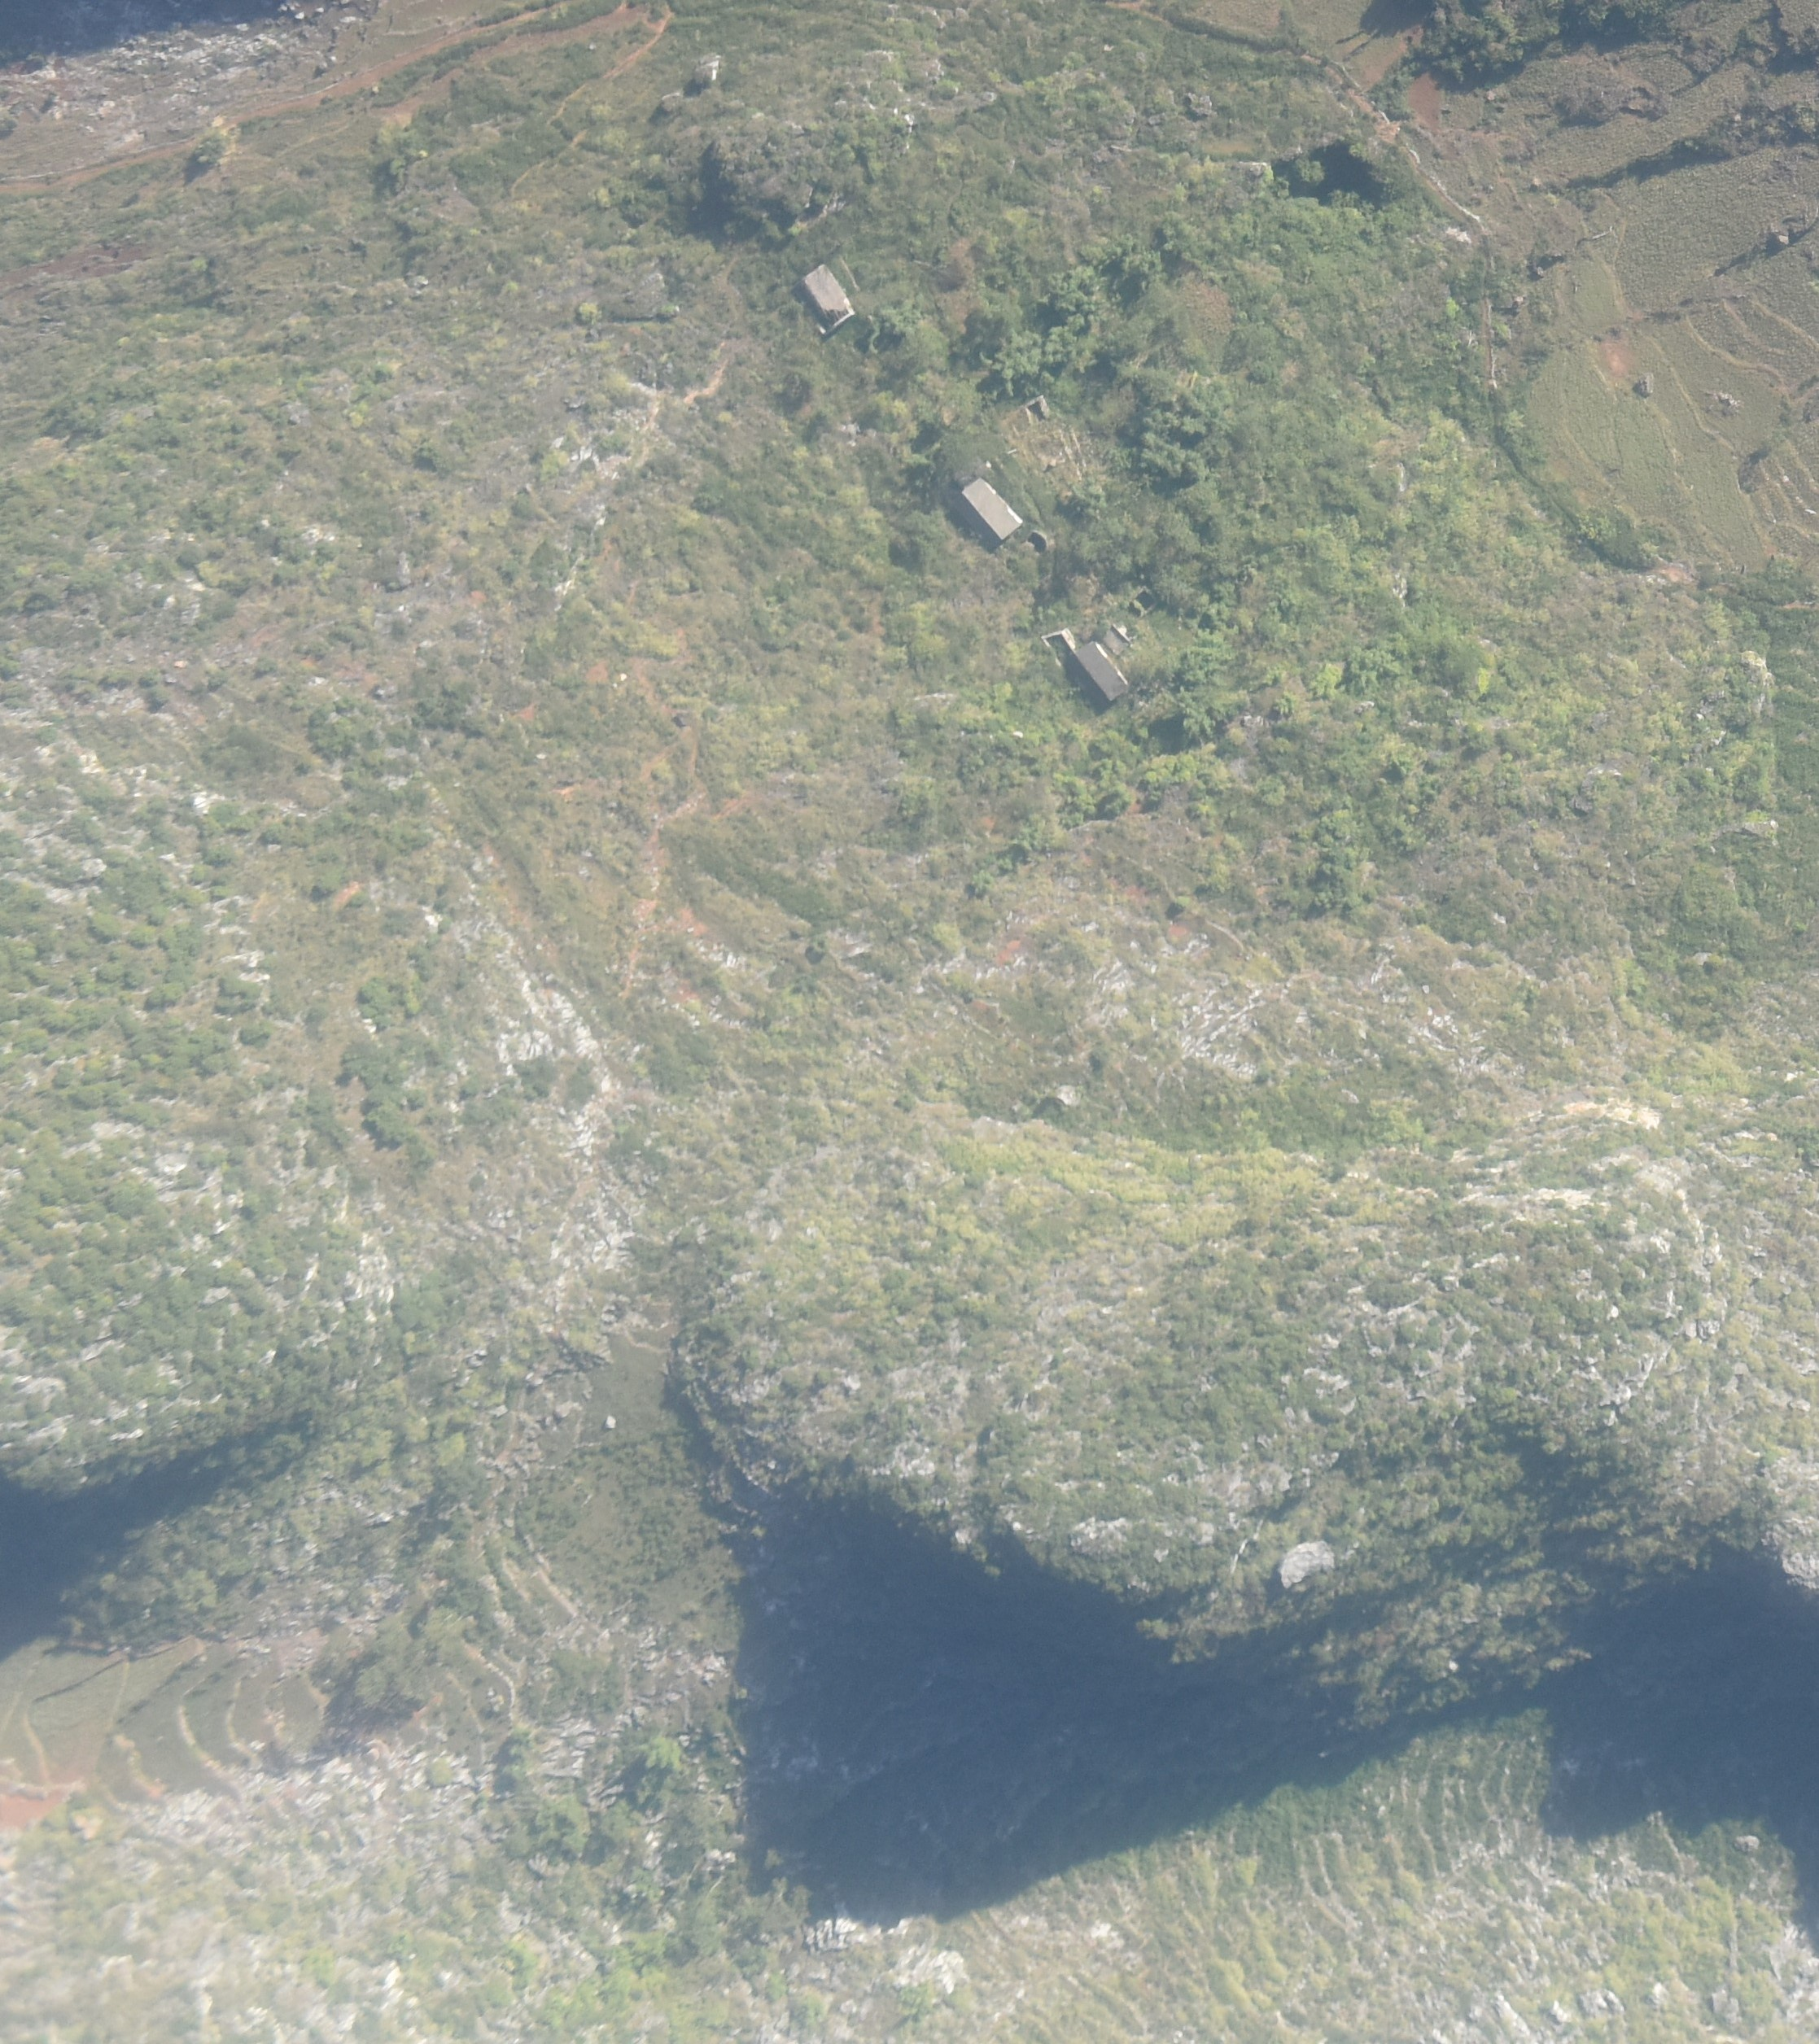building: (962, 478, 1022, 539), (806, 263, 853, 335), (1075, 641, 1127, 701)
